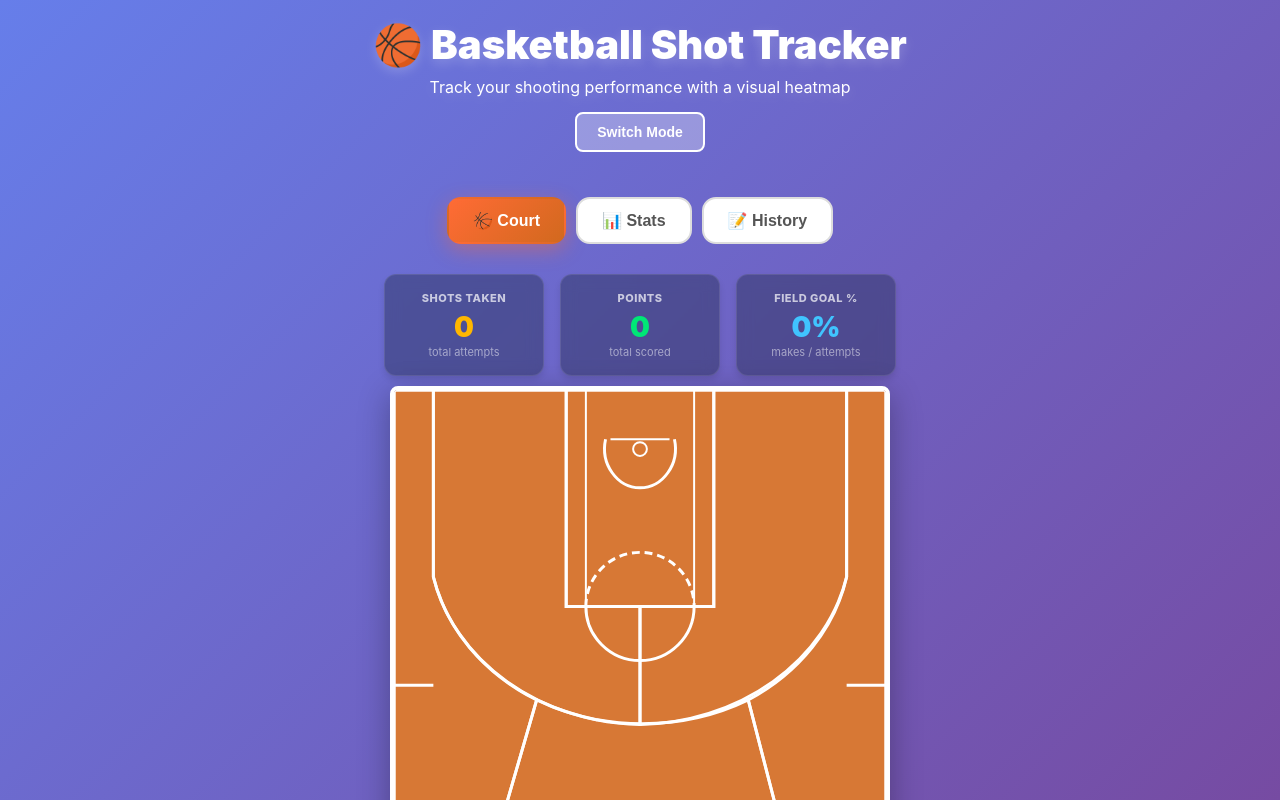
Scenario: App › switches to History tab in student practice mode
This screenshot has width=1280, height=800.
Click the button "📝 History" at [767, 220], box top-left (702, 197), bottom-right (833, 244)
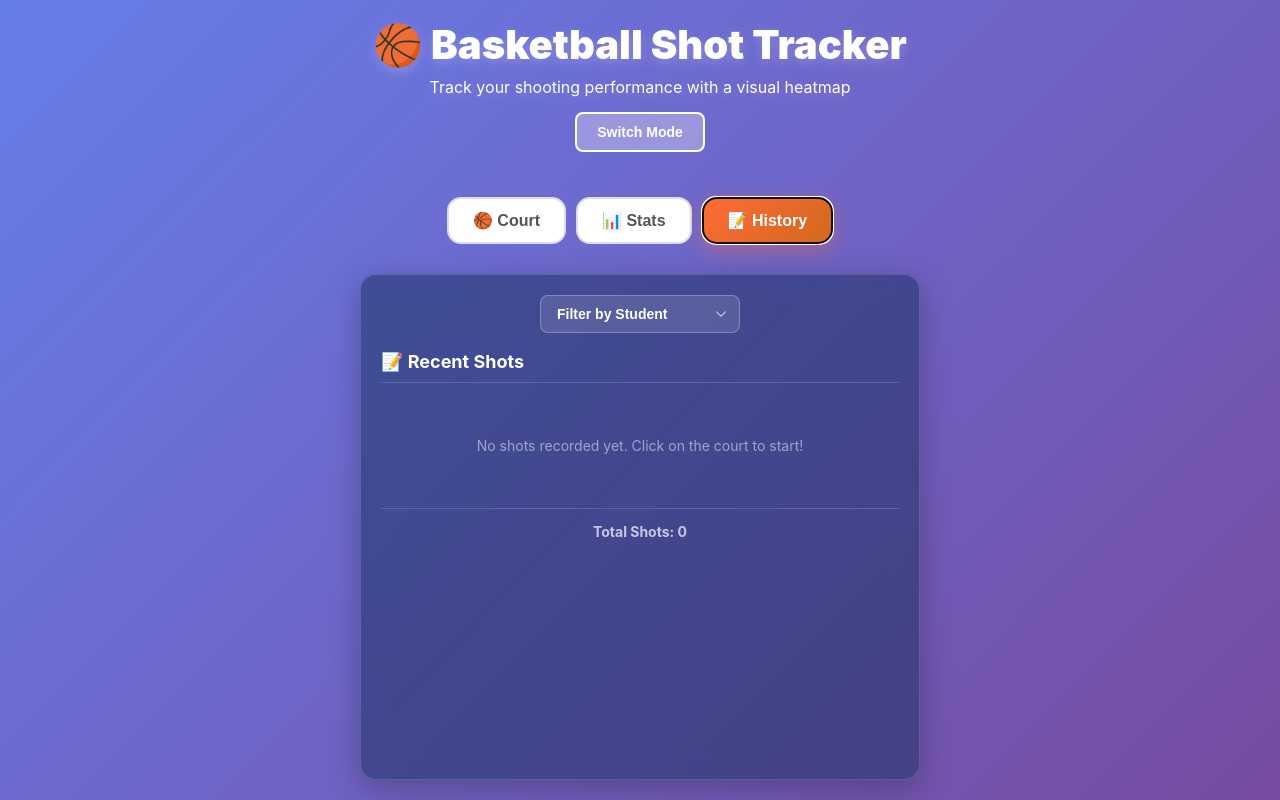
Expected: the text "No shots recorded yet. Click on the court to start!" is shown, top-left (477, 437), bottom-right (803, 454)
